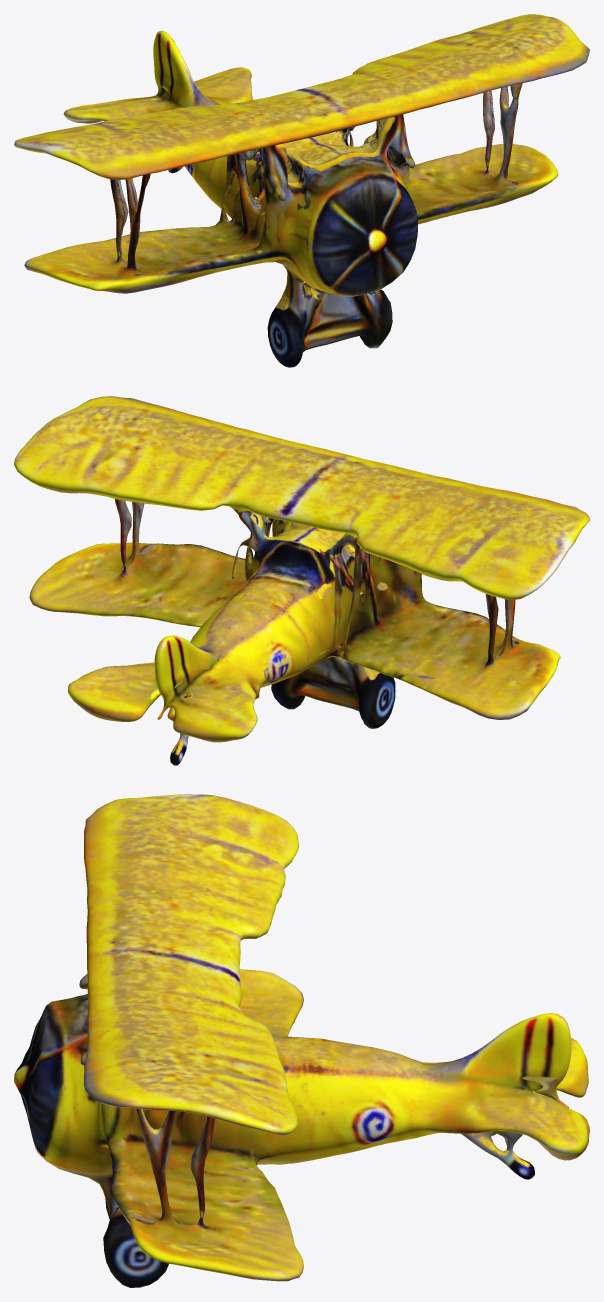
File: biplane-high.glb
3 renders of one model, top to bottom at view 1: azimuth 30°, elevation 25°; view 2: azimuth 150°, elevation 25°; view 3: azimuth 270°, elevation 25°, orthographic. The views are drawn at different scales.
Parts seen in each view (by area): view 1: mesh; view 2: mesh; view 3: mesh.
Boxes of the visible parts, x1=… form: mesh: x1=14, y1=14, x2=589, y2=367; mesh: x1=14, y1=396, x2=589, y2=765; mesh: x1=14, y1=794, x2=589, y2=1287.
Size of the model in its own units: 0.9935 by 0.4622 by 0.7576.
Materials: 1 (1 with a texture image).
